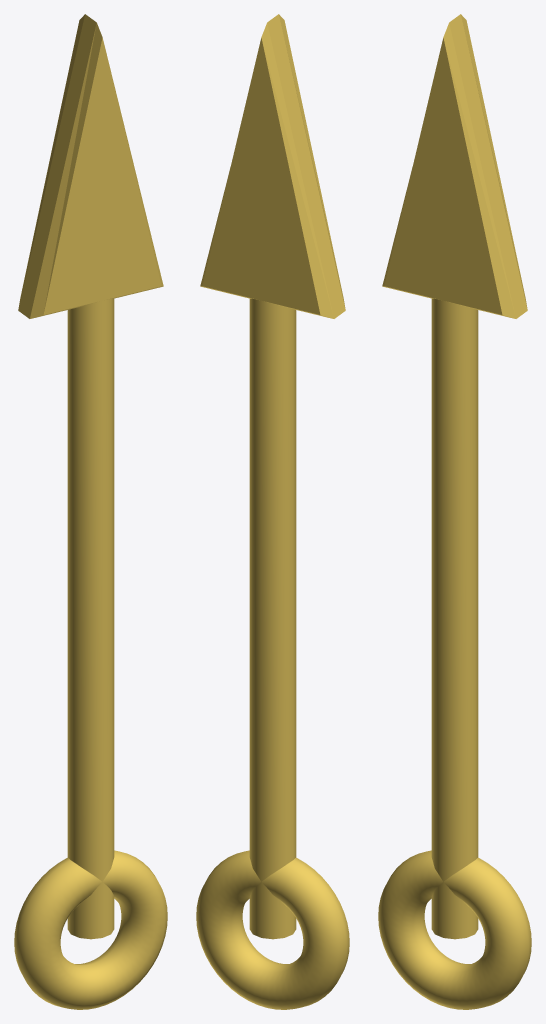
The model's file is conch_upgrade_clock_minute.glb.
3 views of the same model, side by side, from view 1: azimuth 30°, elevation 25°; view 2: azimuth 150°, elevation 25°; view 3: azimuth 330°, elevation 25° (orthographic).
Size of the model in its own units: 2.2 by 14.1 by 0.6.
